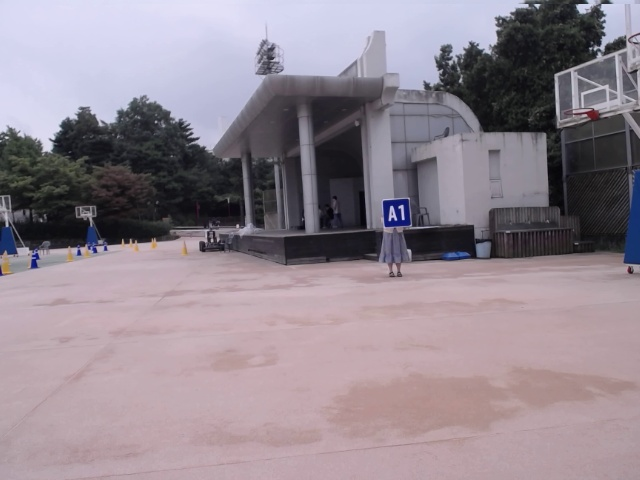delivery_a1: (382, 198, 412, 228)
